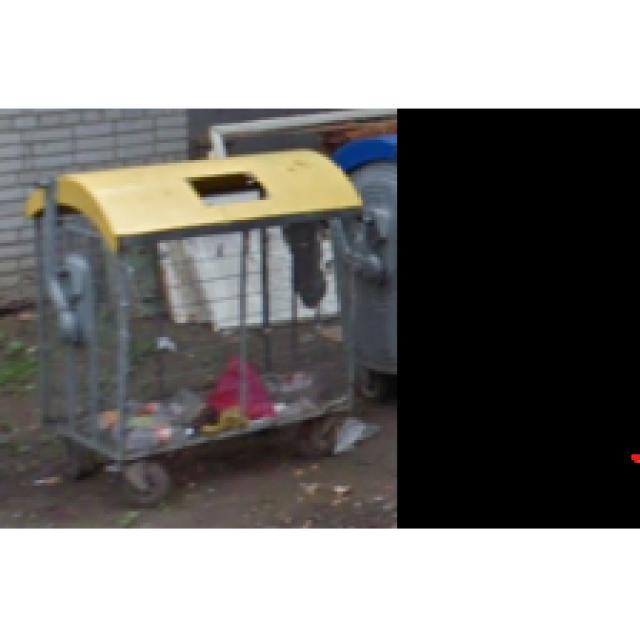plastic trash bin: (31, 149, 354, 502)
